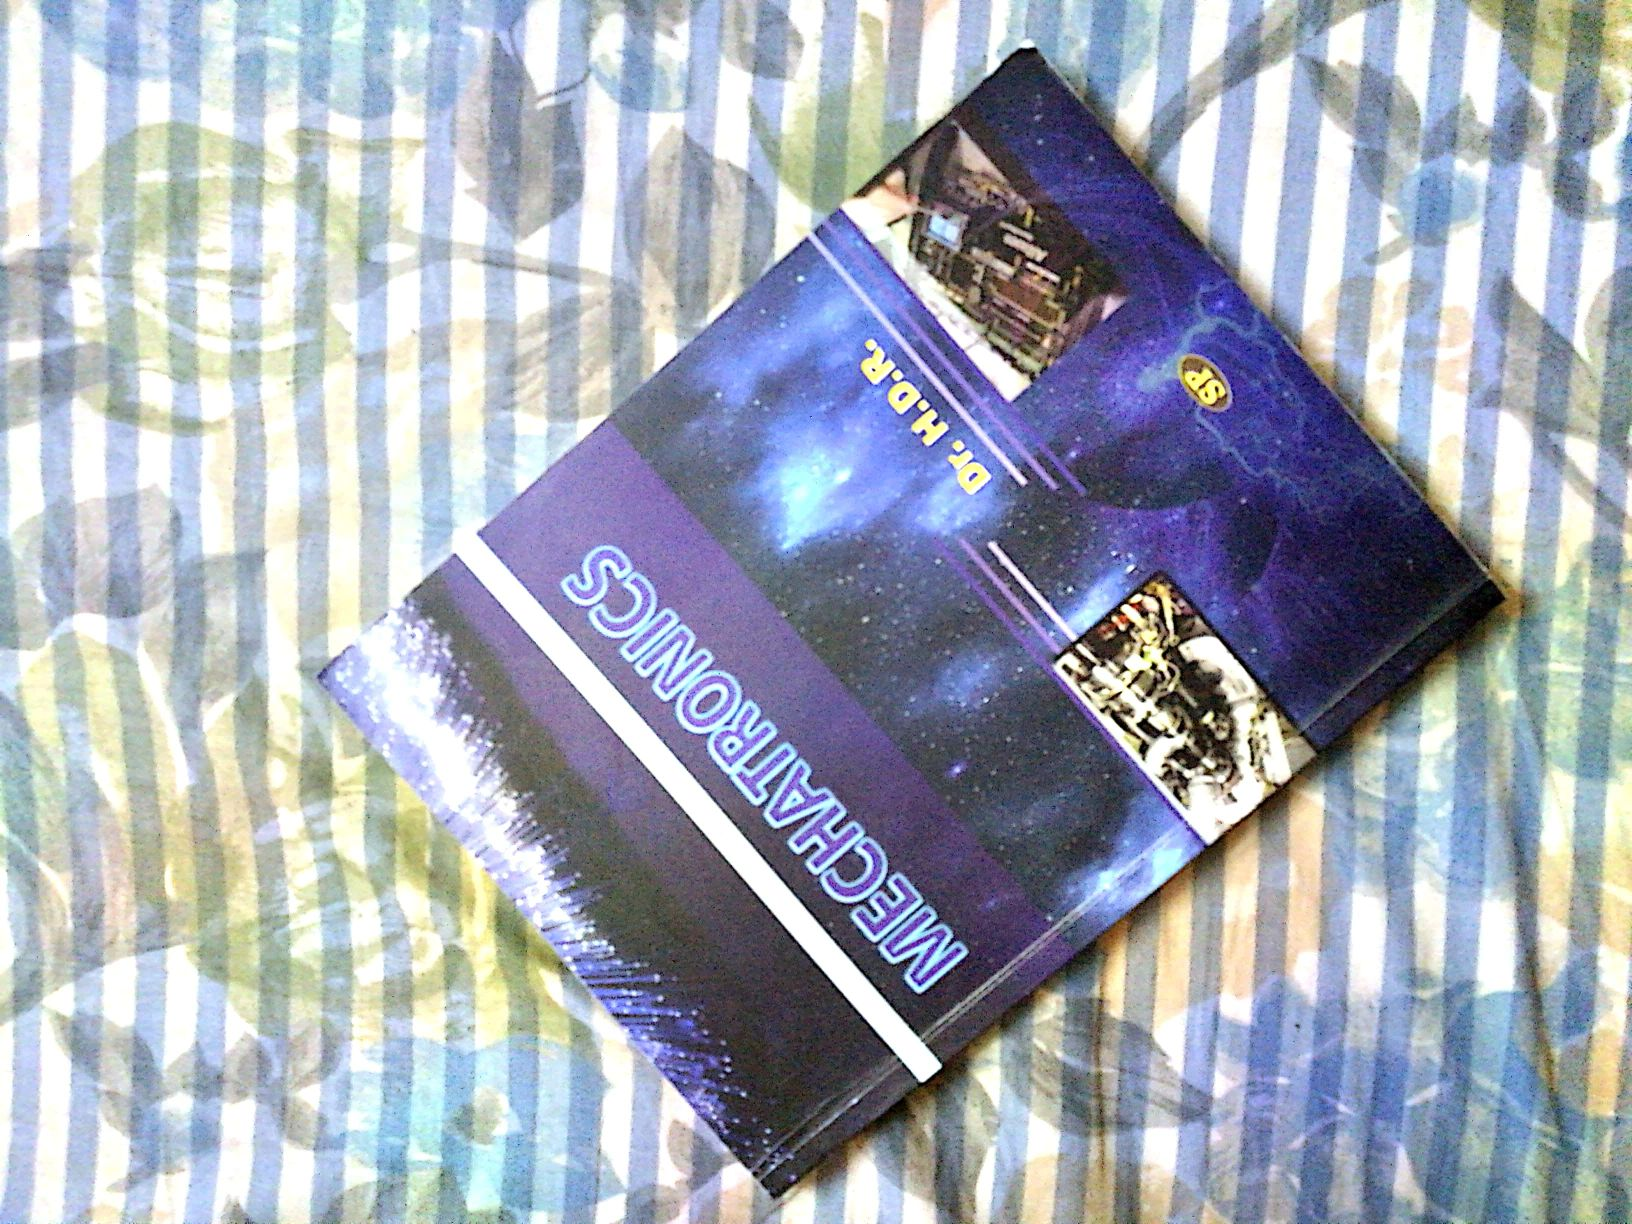mechatronics: (342, 100, 1462, 1149)
